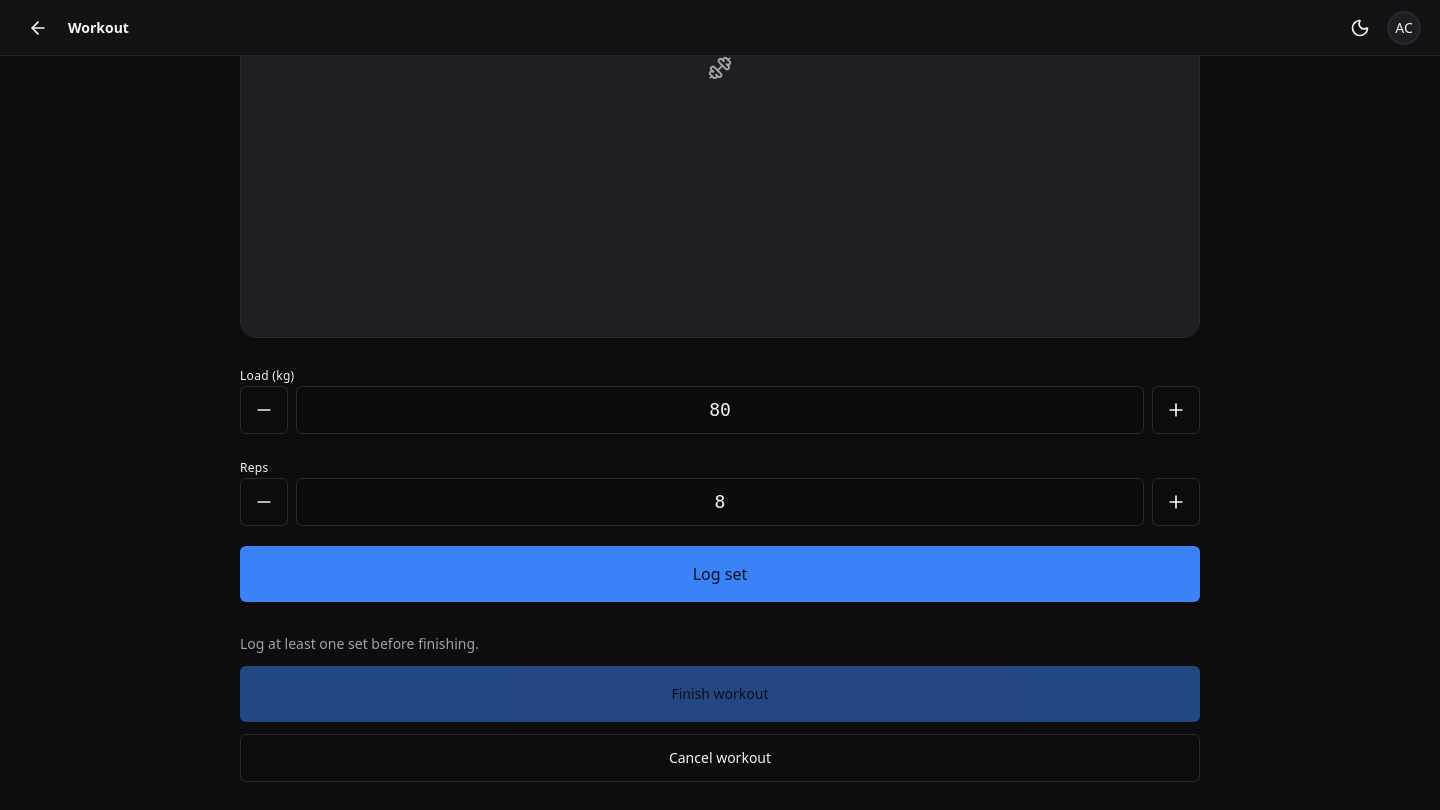
Test: Workout experience › cancels an in-progress session after confirm
(page scrolled)
Click the button "Cancel workout".
click(720, 758)  # box x1=240 y1=734 x2=1200 y2=782
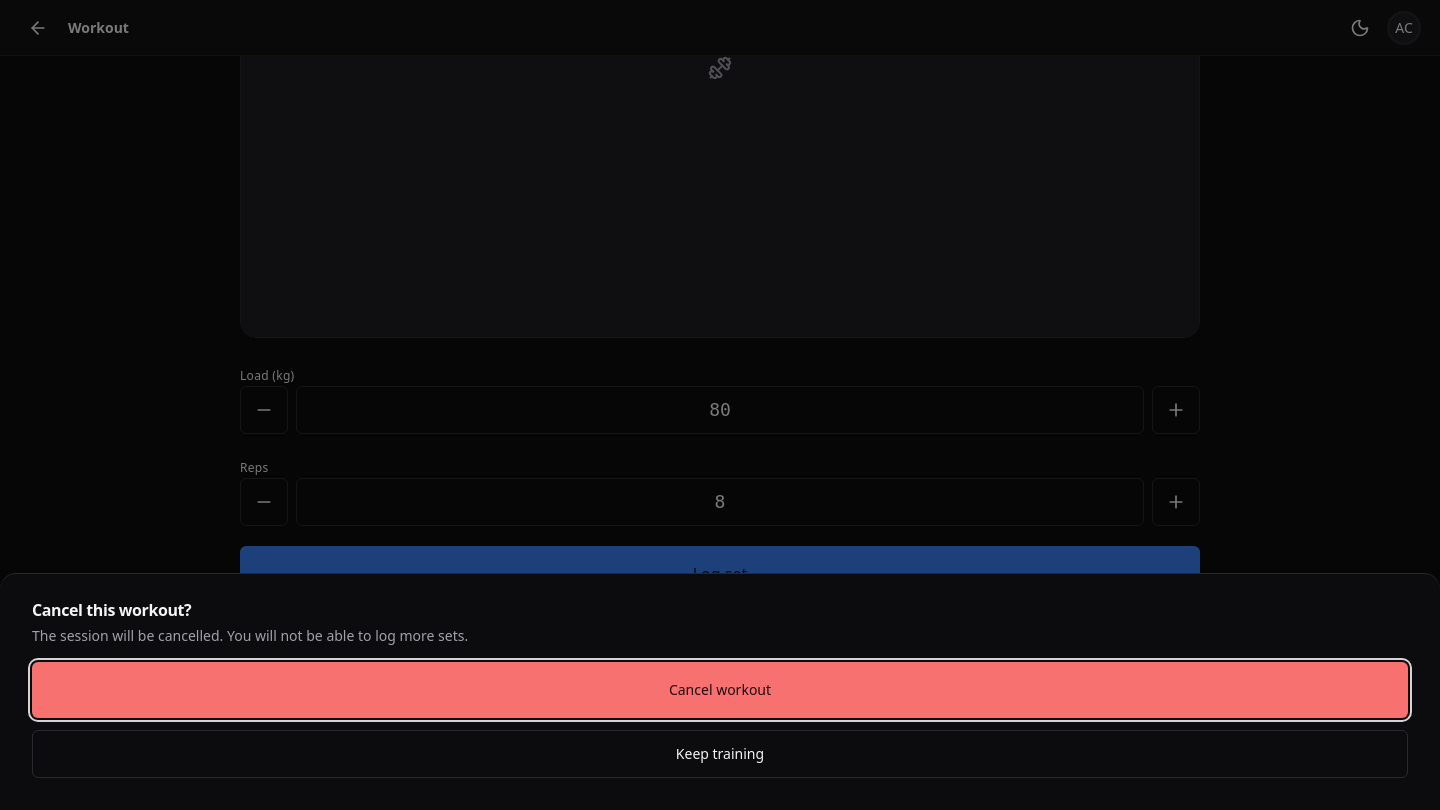
Click the button "Cancel workout".
click(720, 690)  # box x1=32 y1=662 x2=1408 y2=718
(page scrolled)
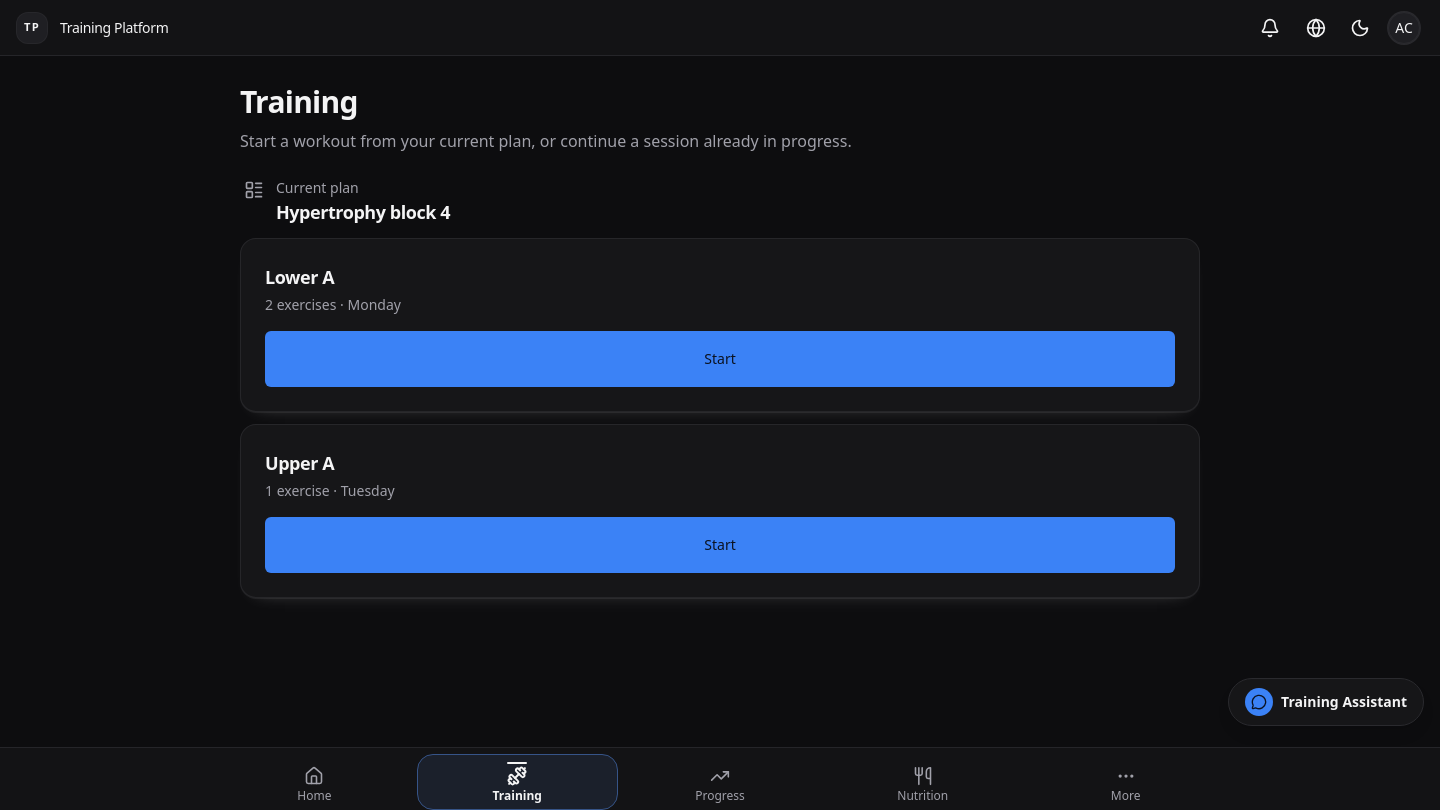
Now the heading "Training" is shown, box x1=240 y1=81 x2=358 y2=122
